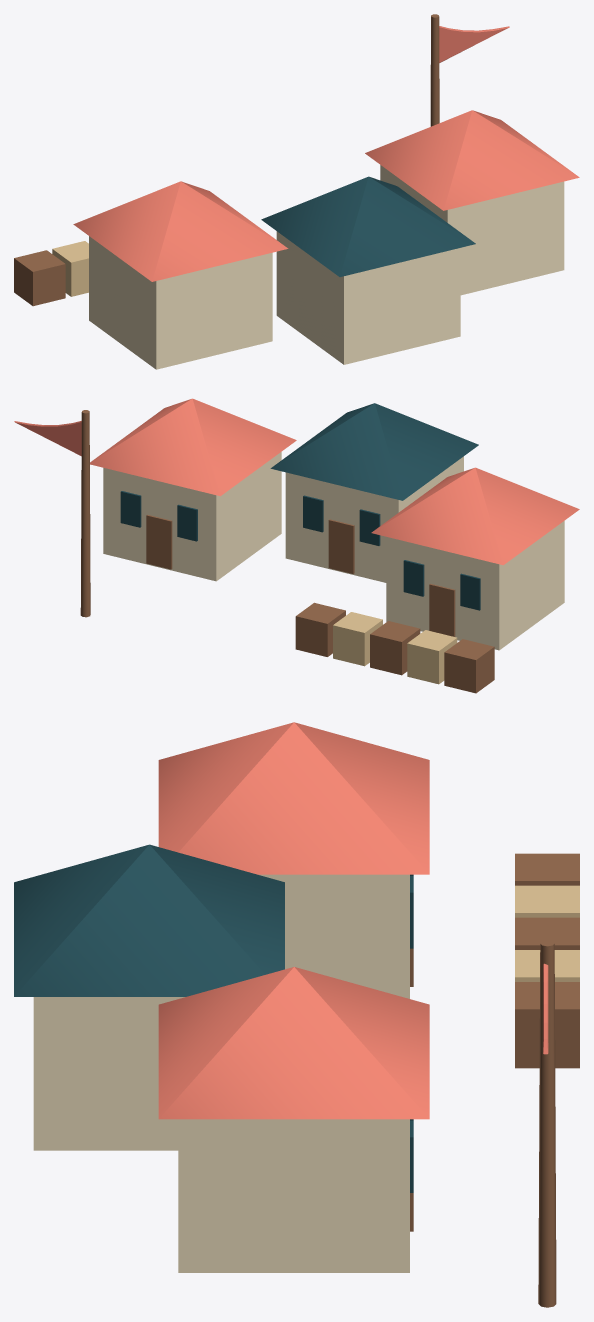
The model's file is harbor-kit.glb.
The picture shows the model from 3 angles, top to bottom: view 1: azimuth 30°, elevation 25°; view 2: azimuth 150°, elevation 25°; view 3: azimuth 270°, elevation 25°; orthographic projection. The views are drawn at different scales.
Visible parts, largest first — view 1: port-house (×3), hipped-tile-roof (×3), cargo-stack (×2), harbor-pennant, harbor-flagpole; view 2: hipped-tile-roof (×3), port-house (×3), cargo-stack (×5), shutter-window (×6), port-door (×3), harbor-flagpole, harbor-pennant; view 3: hipped-tile-roof (×3), port-house (×3), cargo-stack (×5), harbor-flagpole.
Part boxes in pixels (left/top/right/bottom): port-house (×3): left=89, top=165, right=564, bottom=369; hipped-tile-roof (×3): left=73, top=110, right=579, bottom=281; cargo-stack (×2): left=14, top=241, right=88, bottom=306; harbor-pennant: left=439, top=26, right=509, bottom=62; harbor-flagpole: left=430, top=14, right=439, bottom=126; hipped-tile-roof (×3): left=90, top=398, right=579, bottom=565; port-house (×3): left=103, top=452, right=564, bottom=650; cargo-stack (×5): left=295, top=602, right=494, bottom=693; shutter-window (×6): left=120, top=491, right=480, bottom=610; port-door (×3): left=146, top=514, right=455, bottom=636; harbor-flagpole: left=80, top=410, right=90, bottom=617; harbor-pennant: left=14, top=421, right=81, bottom=456; hipped-tile-roof (×3): left=14, top=722, right=429, bottom=1119; port-house (×3): left=33, top=874, right=409, bottom=1272; cargo-stack (×5): left=515, top=853, right=579, bottom=1068; harbor-flagpole: left=538, top=940, right=556, bottom=1307.
Bounding box in the file's own units: 26.66 × 11 × 15.65.
